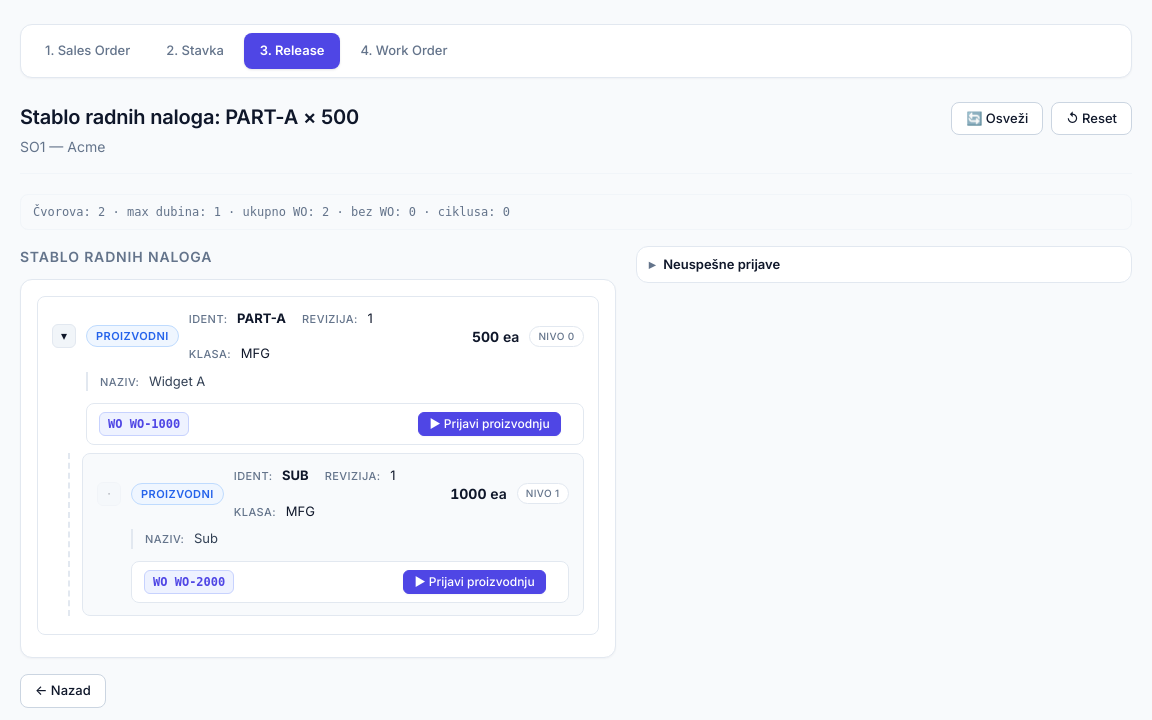
WorkOrdersPage — cascade production reporting › shows a check for reported work orders and the DW message for failed ones
Expected: the text "PART-A" is shown, [237,310,286,326]
What coordinates should you click on to do the following:
click the button with aria-label "pokreni prijavu"
I would click on:
 (490, 424)
Its box is [418,412,561,436].
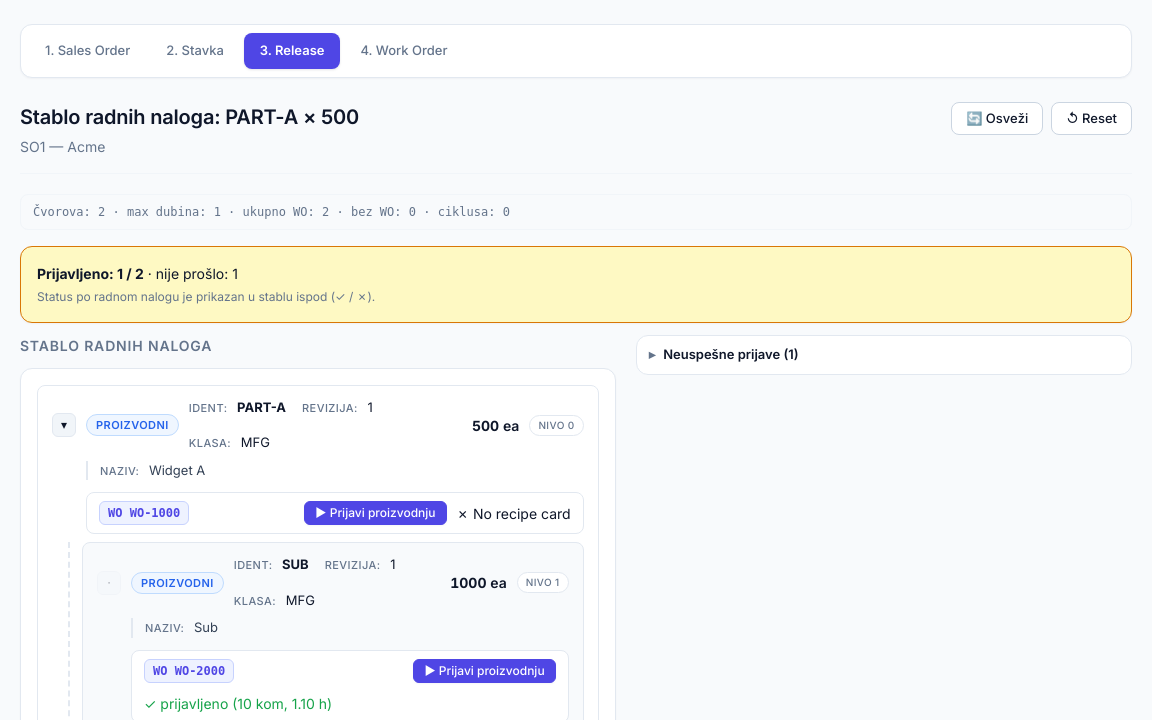
Expected: the text with test id "wo-status-2000" shows "✓", [144,695,332,712]
Expected: the text with test id "wo-status-1000" shows "No recipe card", [456,505,571,522]
